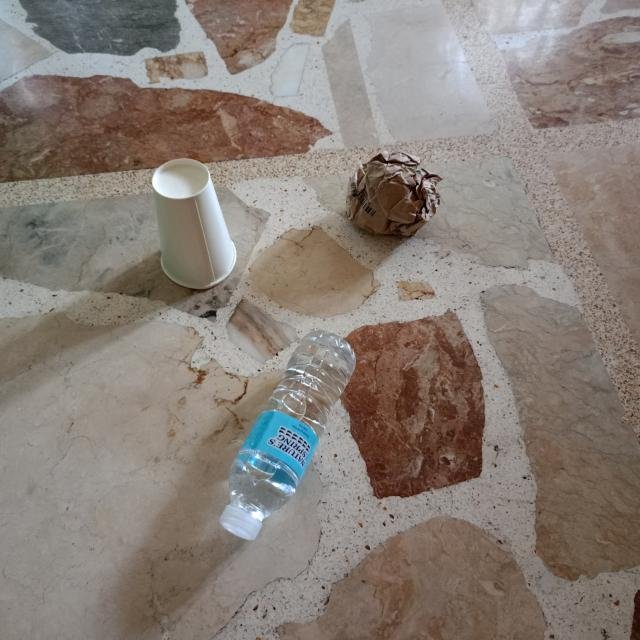Anorganik: (202, 322, 380, 548)
Organik: (138, 152, 246, 299), (334, 141, 448, 250)
